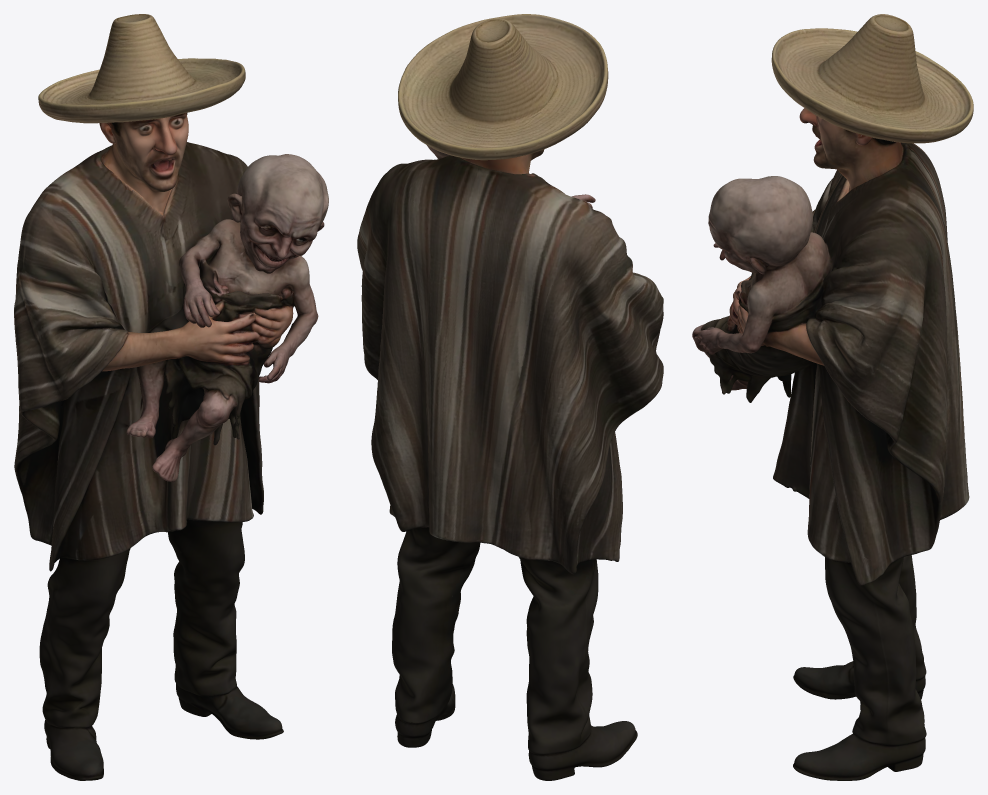
Rendered from 46-el-bebé-en-el-camino-optimized.glb.
3 renders of one model, left to right at view 1: azimuth 30°, elevation 25°; view 2: azimuth 150°, elevation 25°; view 3: azimuth 270°, elevation 25°, orthographic. The views are drawn at different scales.
Parts seen in each view (by area): view 1: tripo_node_ffb3d49b-7ac5-427d-911e-2bbfc74c3cbf; view 2: tripo_node_ffb3d49b-7ac5-427d-911e-2bbfc74c3cbf; view 3: tripo_node_ffb3d49b-7ac5-427d-911e-2bbfc74c3cbf.
Part boxes in pixels (box(x1,y1,x2,y2)): tripo_node_ffb3d49b-7ac5-427d-911e-2bbfc74c3cbf: box(14, 14, 328, 780); tripo_node_ffb3d49b-7ac5-427d-911e-2bbfc74c3cbf: box(357, 14, 663, 780); tripo_node_ffb3d49b-7ac5-427d-911e-2bbfc74c3cbf: box(692, 14, 973, 780).
Bounding box in the file's own units: 0.4143 × 1 × 0.3582.
Materials: 1 (1 with a texture image).
